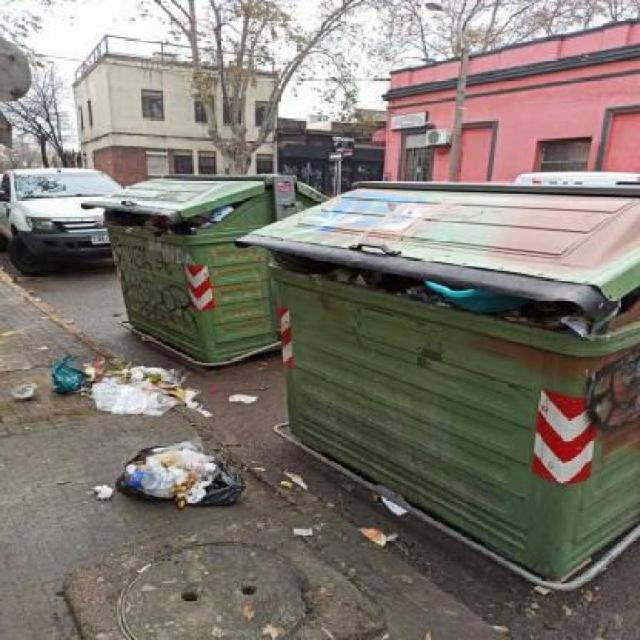garbage: (273, 255, 610, 340), (83, 434, 298, 553), (37, 354, 221, 447), (5, 359, 86, 455), (95, 214, 222, 240), (362, 519, 420, 568)
